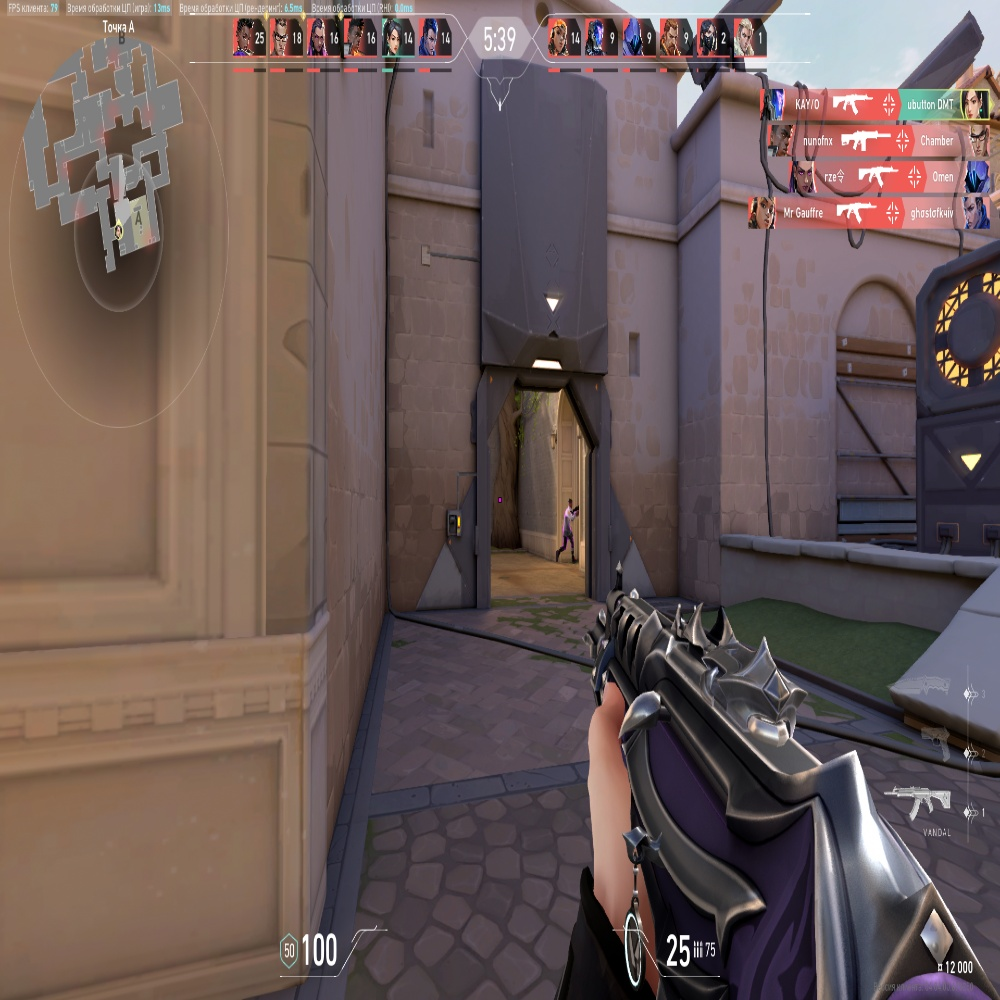body: (565, 509, 572, 535)
head: (568, 499, 572, 507)
